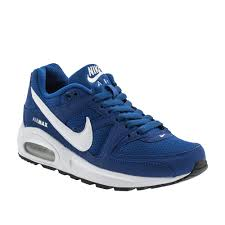nike: (31, 89, 95, 154)
